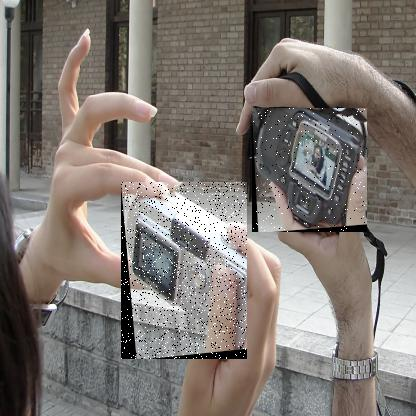Camera: (122, 184, 249, 362), (254, 109, 370, 234)
